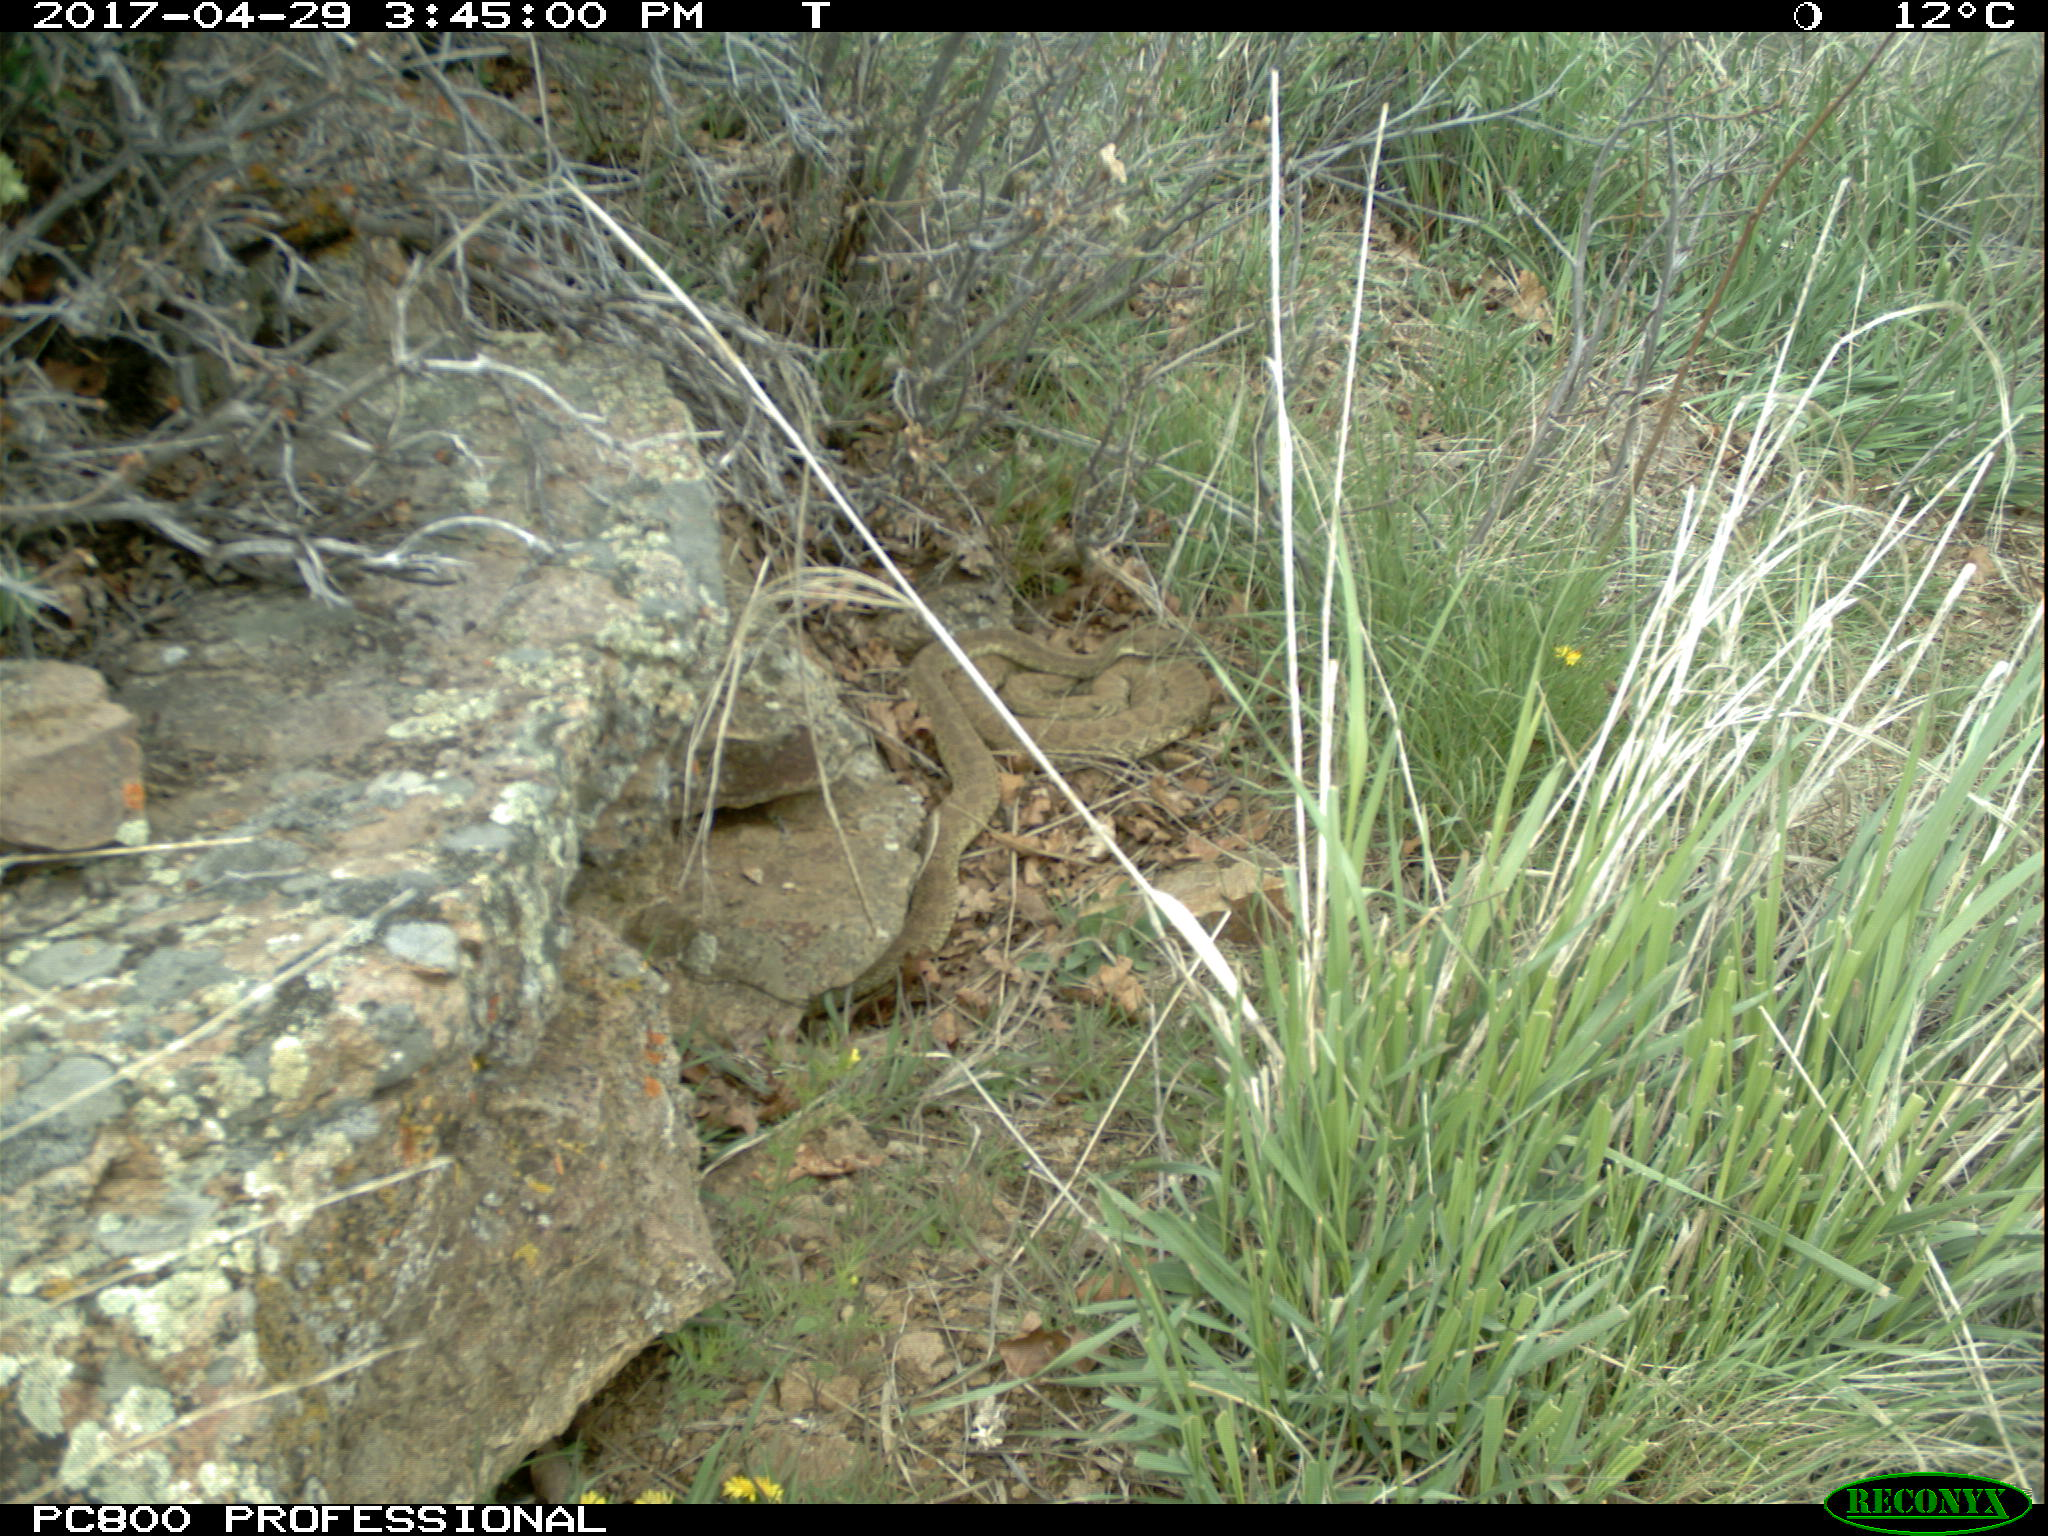snake: (906, 620, 1227, 762), (910, 765, 1001, 978)
